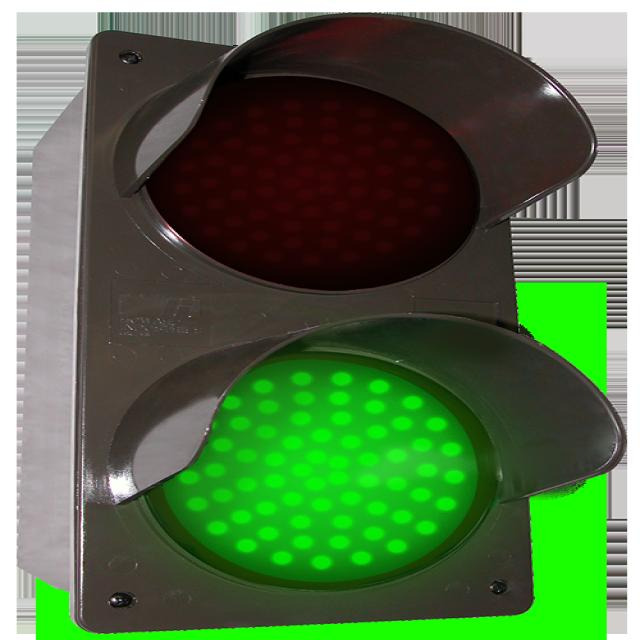green: (152, 319, 448, 590)
